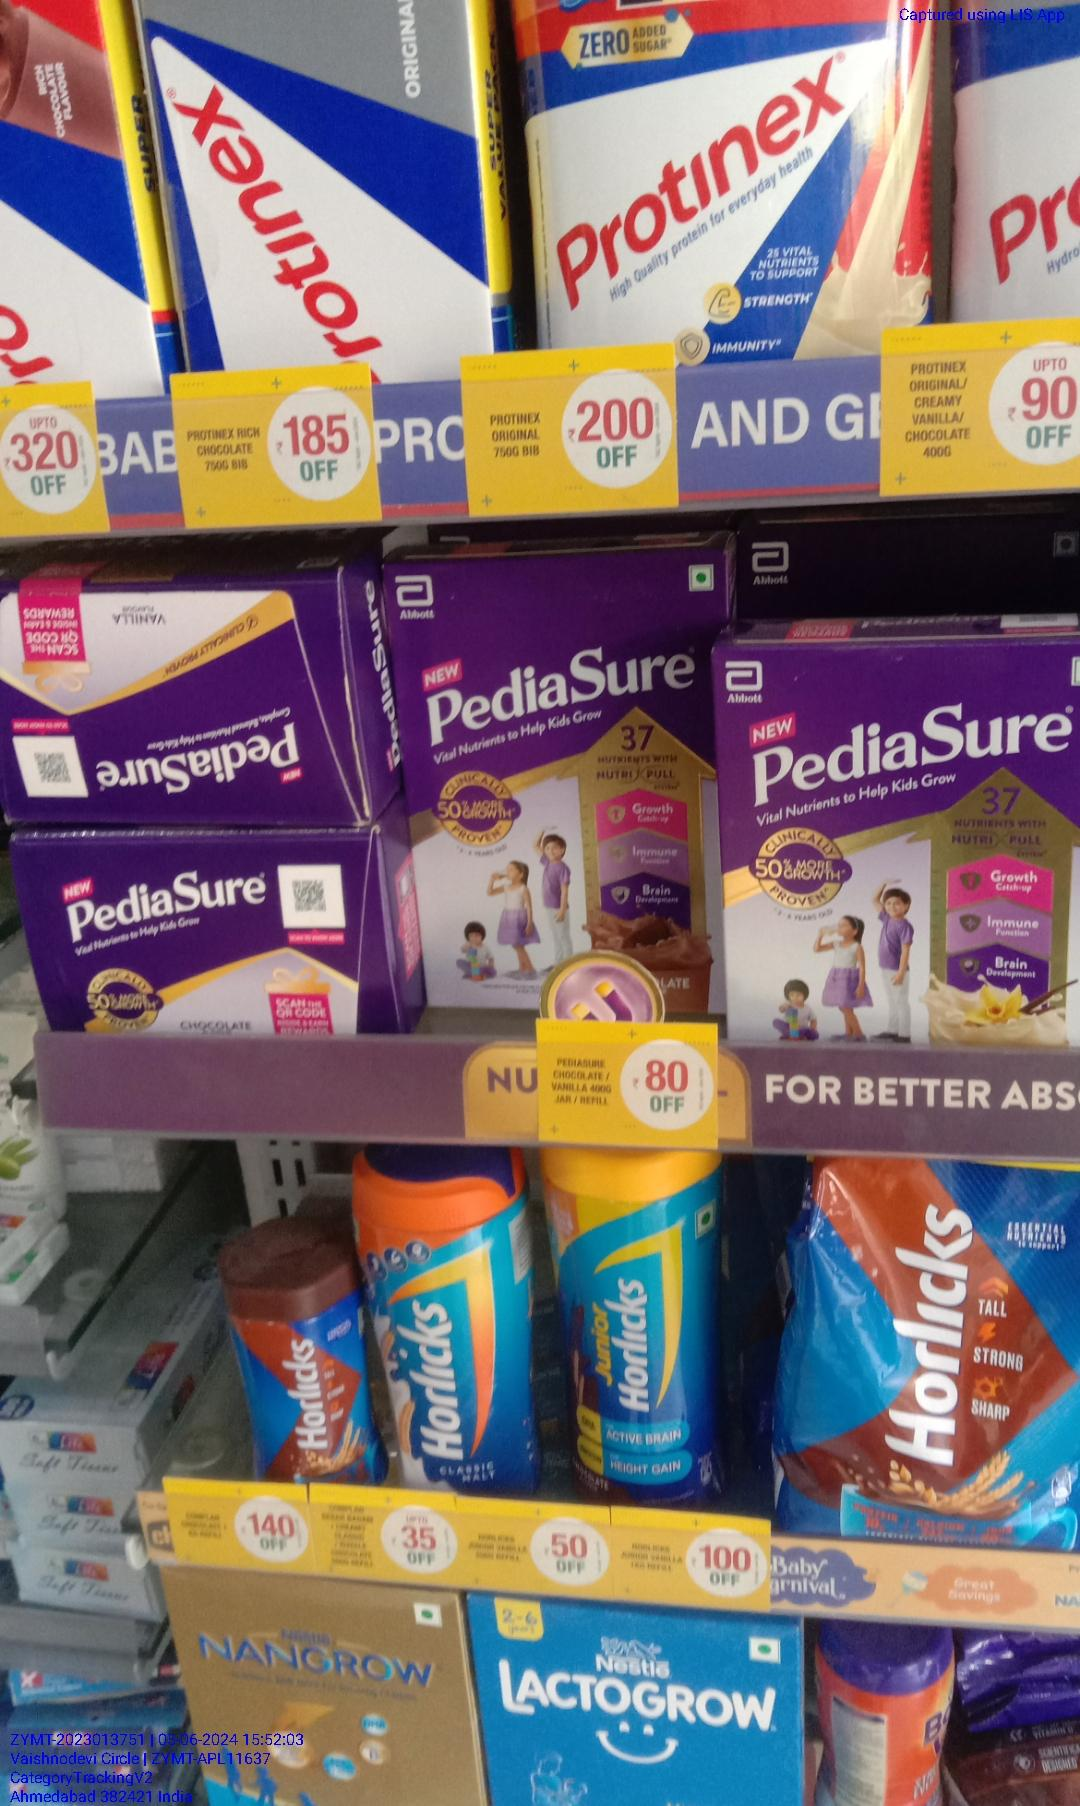COMPLAN_CHOCOLATE_500_GMS_PACK: (402, 557, 720, 1030)
HORLICK_CHOCOLATE_200_G_JAR: (230, 1217, 359, 1472)
HORLICK_CHOCOLATE_750_G_POUCH: (771, 1145, 1080, 1544)
HORLICK_CLASSIC_MALT_500_G_JAR: (360, 1157, 534, 1486)
PEDIASURE_VANILLA_500_G_PACK: (729, 641, 1080, 1066)
